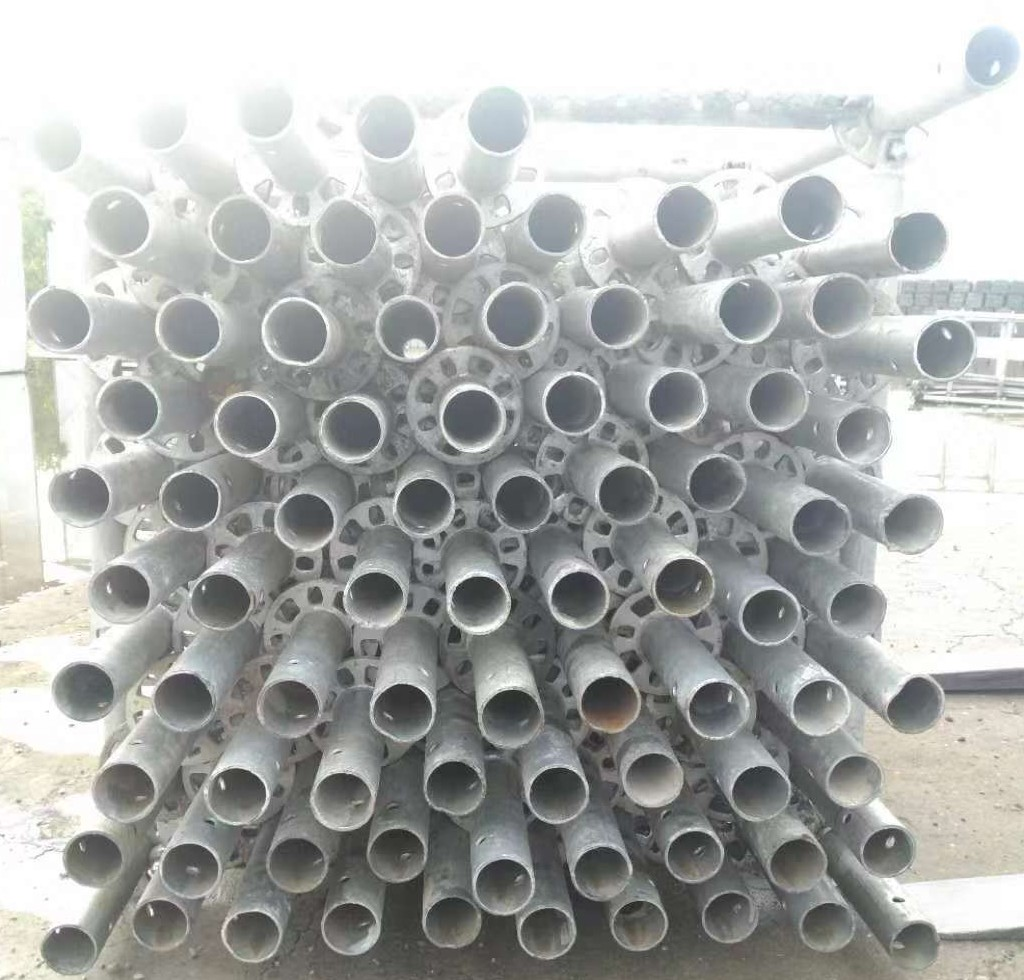circle_steel: (150, 288, 228, 365), (367, 292, 443, 367), (258, 294, 332, 371), (314, 392, 387, 469), (77, 187, 153, 260), (201, 194, 277, 267), (480, 279, 552, 356), (458, 85, 537, 155), (772, 171, 847, 244), (23, 284, 96, 359), (350, 87, 421, 164), (577, 282, 657, 350), (640, 367, 720, 435), (646, 181, 719, 255), (710, 274, 784, 346), (435, 385, 508, 456), (44, 659, 119, 728), (881, 209, 952, 280), (386, 472, 459, 541), (572, 669, 646, 737), (519, 763, 597, 827), (649, 551, 719, 622), (536, 371, 609, 439), (486, 470, 559, 538), (779, 492, 852, 560), (873, 490, 946, 558), (85, 760, 160, 826), (744, 370, 815, 439), (309, 199, 379, 268), (806, 271, 876, 340), (909, 318, 979, 386), (444, 568, 511, 639), (877, 670, 948, 737), (152, 471, 228, 533), (363, 682, 439, 744), (591, 461, 662, 527), (474, 685, 545, 751), (524, 189, 589, 261), (93, 376, 165, 441), (253, 676, 325, 741), (465, 854, 538, 918), (197, 764, 271, 827), (153, 838, 225, 902), (212, 391, 280, 458), (544, 565, 613, 631), (681, 677, 750, 743), (86, 562, 158, 625), (124, 86, 193, 151), (418, 194, 487, 259), (228, 79, 300, 141), (46, 465, 114, 530), (149, 669, 218, 733), (184, 570, 255, 632), (724, 760, 795, 822), (270, 491, 342, 552), (341, 566, 405, 634), (680, 452, 749, 515), (733, 586, 802, 649), (785, 675, 851, 740), (362, 824, 432, 885), (819, 749, 888, 810), (959, 22, 1022, 88), (308, 769, 374, 832), (62, 830, 130, 891), (420, 758, 489, 818), (823, 577, 888, 640), (217, 906, 285, 966), (266, 834, 331, 896), (420, 891, 485, 953), (23, 110, 84, 176), (621, 750, 687, 811), (320, 900, 384, 962), (697, 886, 761, 948), (568, 844, 634, 904), (830, 404, 893, 466), (662, 826, 728, 885), (766, 835, 827, 898), (32, 924, 103, 978), (608, 895, 671, 955), (513, 906, 579, 963), (856, 822, 918, 882), (795, 898, 859, 955), (130, 894, 190, 954), (886, 917, 944, 971)
